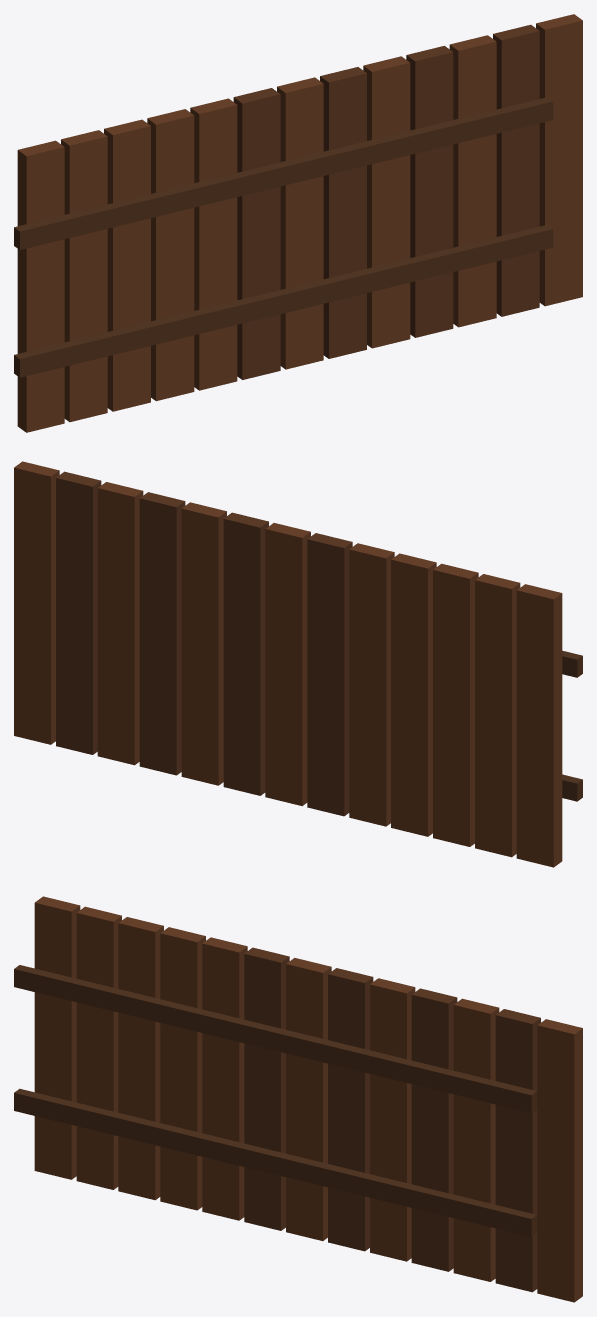
3 views of the same model, one above another, from view 1: azimuth 30°, elevation 25°; view 2: azimuth 150°, elevation 25°; view 3: azimuth 330°, elevation 25° (orthographic). The views are drawn at different scales.
Visible parts, largest first — view 1: baked; view 2: baked; view 3: baked.
Boxes of the visible parts, left/top/right/bottom form: baked: left=14, top=14, right=582, bottom=432; baked: left=14, top=461, right=582, bottom=867; baked: left=14, top=896, right=582, bottom=1302.
Size of the model in its own units: 11.22 by 5.2 by 0.55.
